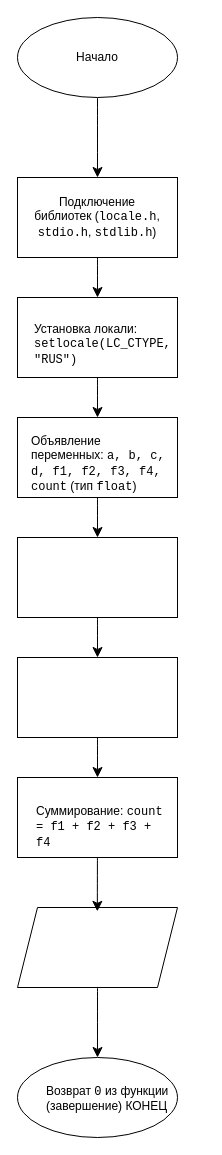
Some shapes in this 222 by 1155 pixel diagram are drawn without their labels. The shapes that lost their labels are listed below. From the top down, each one's centre as x and y in pixels, then its label:
point (97, 577): Присвоение значений: a = 5500.00 b = 5600.00 c = 6600.50 d = 7600.05
point (97, 697): Расчёт чаевых: f1 = a * 0.15 f2 = b * 0.15 f3 = c * 0.15 f4 = d * 0.15
point (97, 947): Вывод результата: printf("Чаевые %5.2f", count)
